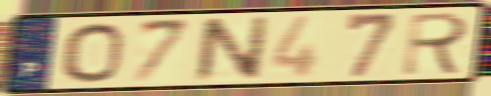4: (269, 13, 325, 81)
7: (134, 16, 193, 86), (344, 11, 398, 80)
N: (192, 14, 272, 85)
O: (59, 20, 126, 85)
R: (399, 10, 473, 78)
